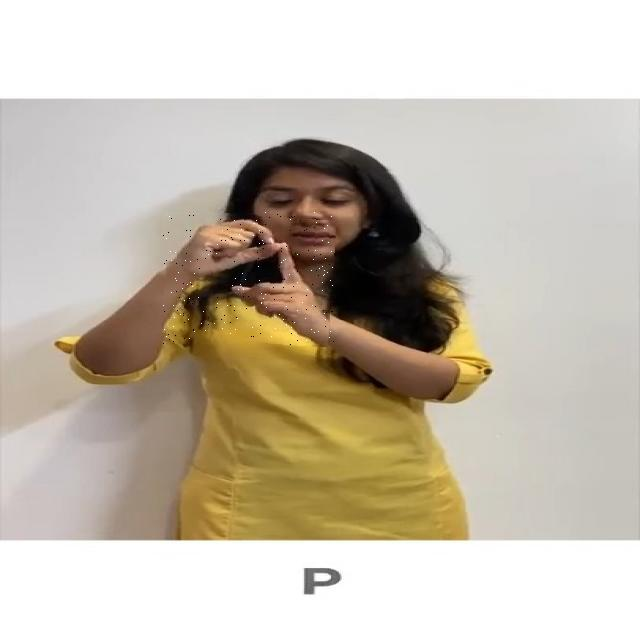P: (163, 212, 334, 345)
